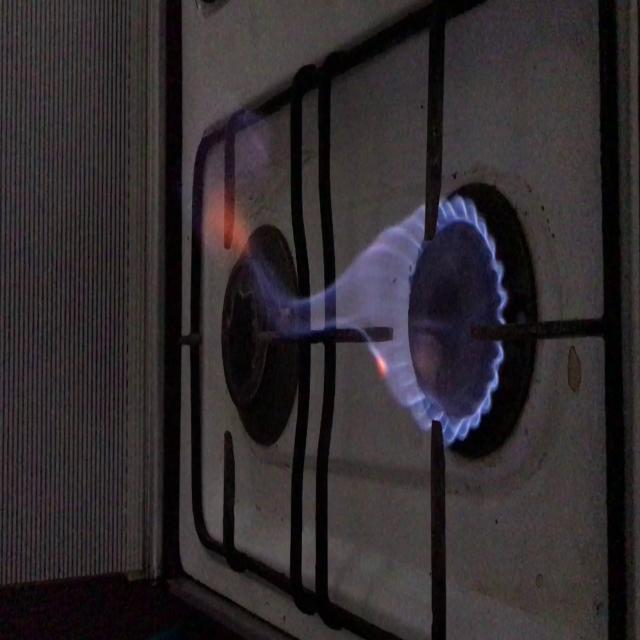Fire: (274, 238, 512, 423)
